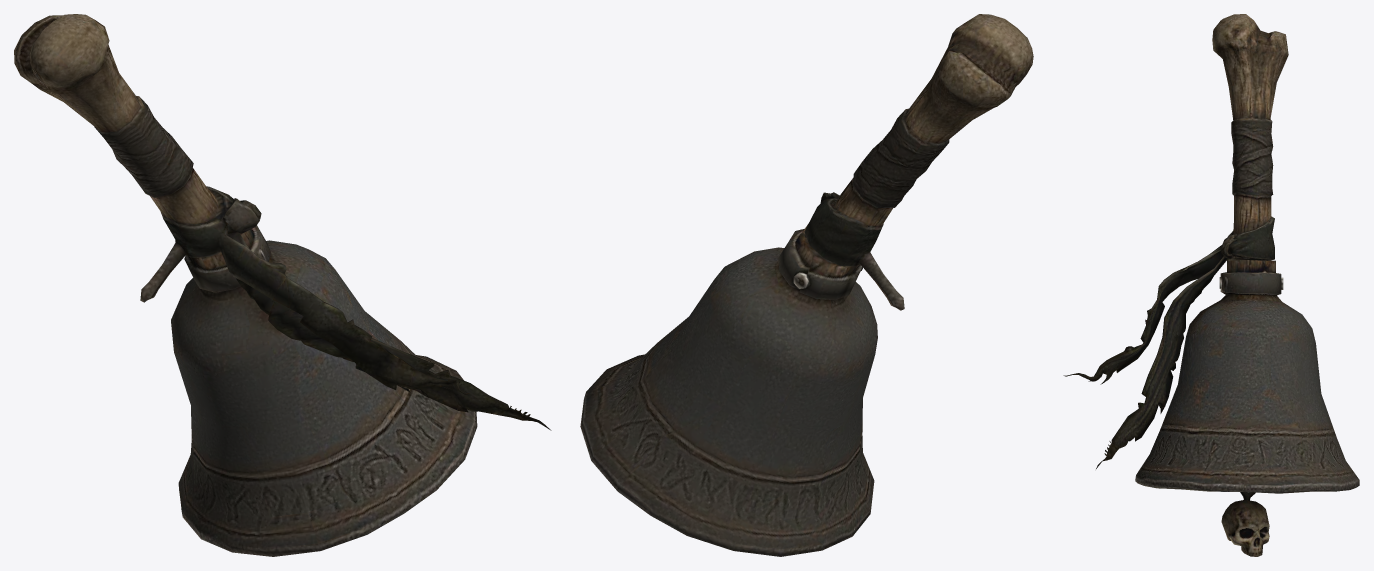
The model's file is necro_wpn_mourning_bell.glb.
3 renders of one model, left to right at view 1: azimuth 30°, elevation 25°; view 2: azimuth 150°, elevation 25°; view 3: azimuth 270°, elevation 25°, orthographic. The views are drawn at different scales.
Visible parts, largest first — view 1: tripo_node_5034231c-6397-4102-81c4-d451a83b81a9; view 2: tripo_node_5034231c-6397-4102-81c4-d451a83b81a9; view 3: tripo_node_5034231c-6397-4102-81c4-d451a83b81a9.
Part boxes in pixels (x1,y1,x2,y2): tripo_node_5034231c-6397-4102-81c4-d451a83b81a9: [14, 14, 551, 556]; tripo_node_5034231c-6397-4102-81c4-d451a83b81a9: [580, 14, 1033, 556]; tripo_node_5034231c-6397-4102-81c4-d451a83b81a9: [1063, 14, 1359, 556].
Size of the model in its own units: 0.7833 by 0.998 by 0.6387.
Materials: 1 (1 with a texture image).
